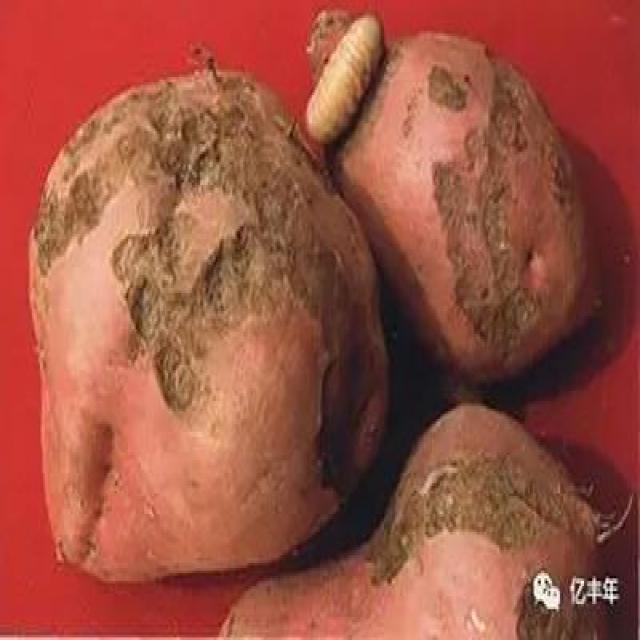Grub-Adult-: (304, 10, 391, 144)
